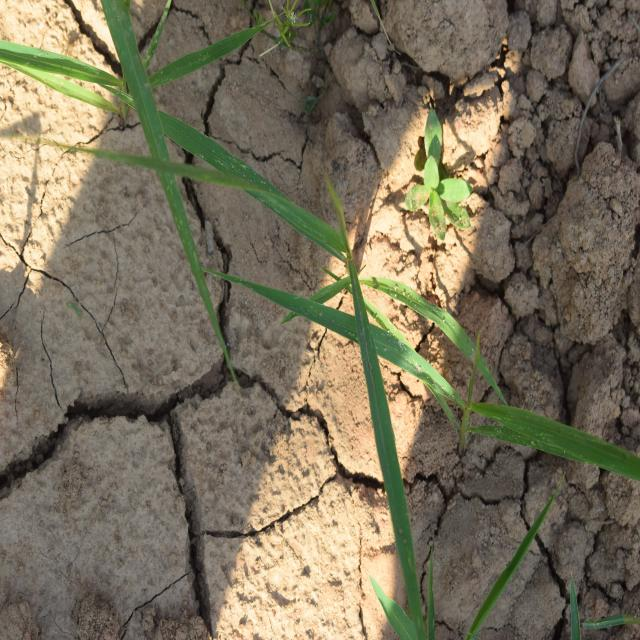green_foxtail: (303, 236, 624, 514)
